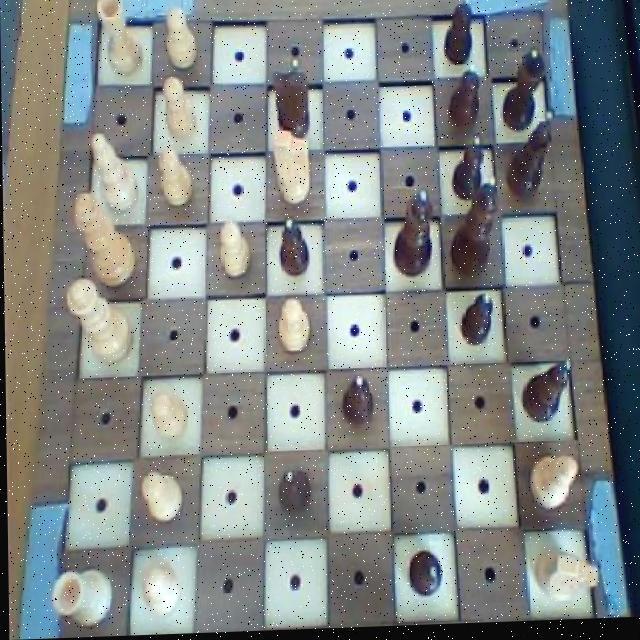bishop: (503, 108, 556, 206), (518, 356, 577, 432)
black-bishop: (442, 173, 502, 286)
black-king: (262, 59, 316, 149)
black-knight: (444, 64, 482, 141), (439, 0, 477, 73), (448, 132, 485, 205), (270, 463, 315, 523), (338, 370, 376, 437), (275, 213, 311, 281), (454, 292, 492, 352), (405, 549, 443, 602)
black-pawn: (389, 186, 439, 280)
black-queen: (494, 47, 550, 140)
black-rook: (86, 128, 143, 221), (522, 451, 582, 527)
white-bishop: (70, 190, 140, 293)
white-king: (528, 541, 603, 618), (268, 126, 316, 215)
white-knight: (136, 556, 185, 625), (159, 0, 203, 74), (136, 467, 186, 532), (268, 294, 314, 360), (159, 73, 199, 147), (145, 382, 191, 445), (155, 145, 197, 211), (213, 217, 253, 285)
white-pawn: (61, 272, 134, 371)
white-queen: (43, 564, 113, 630), (94, 0, 150, 80)
